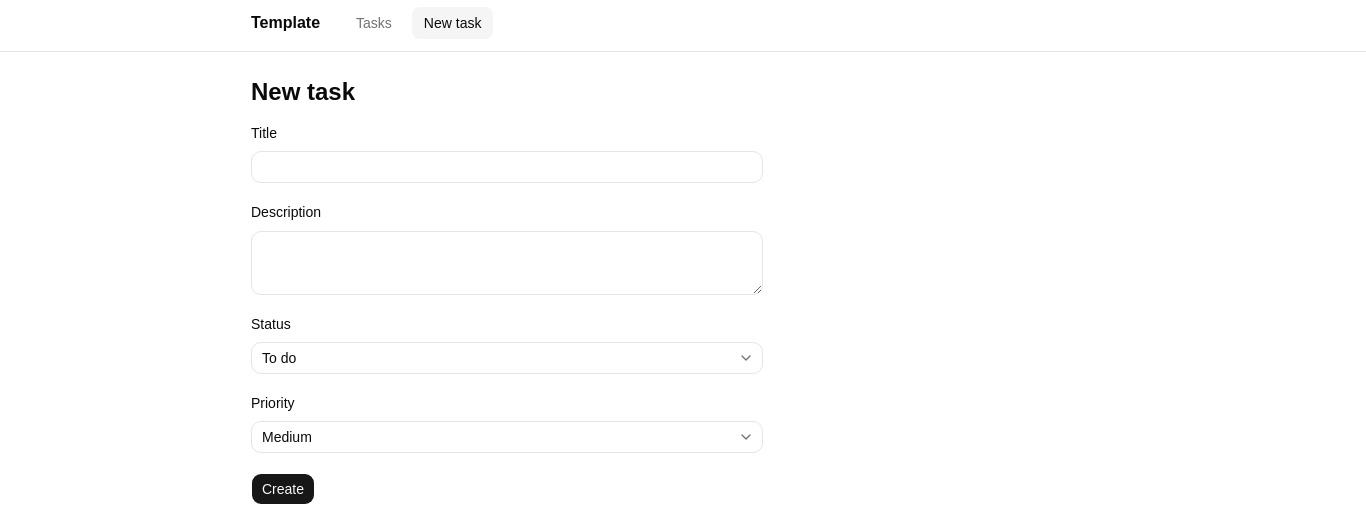
Test: TaskNewPage › creates a task and navigates back to the list
The image size is (1366, 522).
In the field labelled "Title": (507, 167) [251, 151, 763, 183], type "Review the pull request"
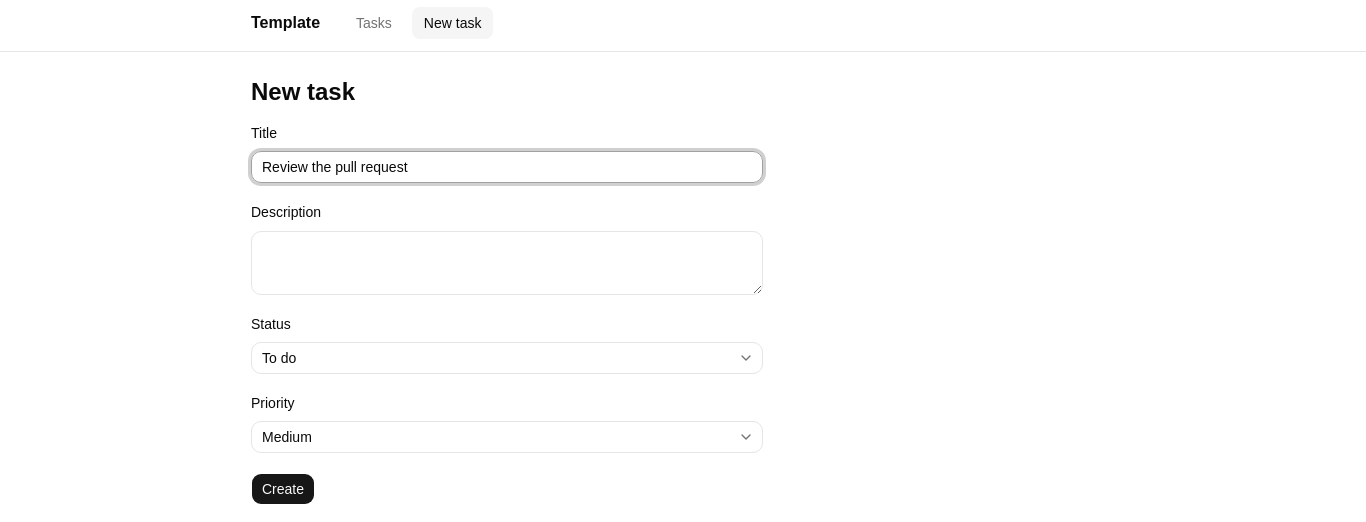
Click the button "Create": (283, 489) [251, 473, 315, 505]
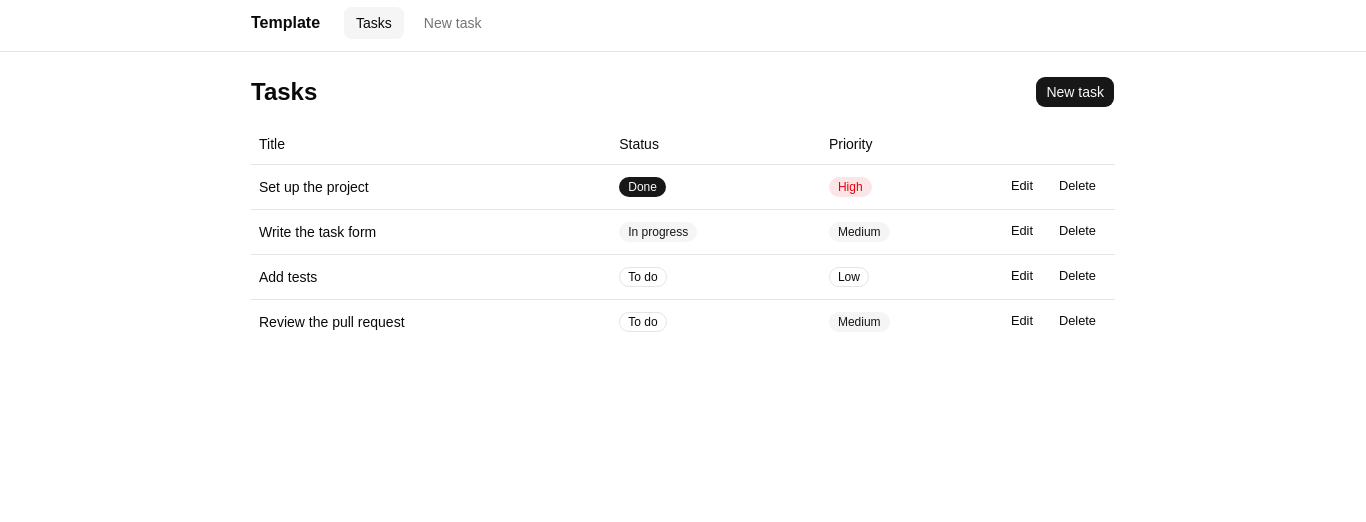
Check: the heading "Tasks" is shown, box [251, 76, 317, 108]
Check: the text "Review the pull request" is shown, box [251, 299, 611, 344]
